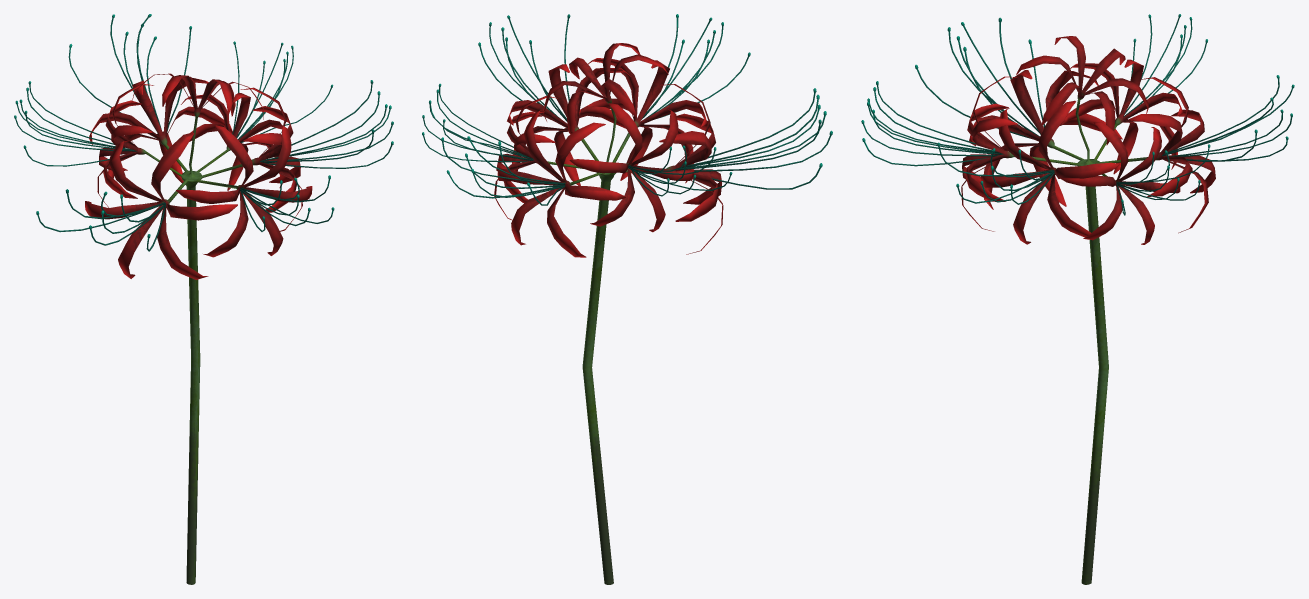
The model's file is SpiderLily.fbx.
The picture shows the model from 3 angles, left to right: view 1: azimuth 30°, elevation 25°; view 2: azimuth 150°, elevation 25°; view 3: azimuth 270°, elevation 25°; orthographic projection. The views are drawn at different scales.
Visible parts, largest first — view 1: Final Flower; view 2: Final Flower; view 3: Final Flower.
Part boxes in pixels (left/top/right/bottom): Final Flower: left=14, top=14, right=393, bottom=584; Final Flower: left=422, top=14, right=832, bottom=584; Final Flower: left=861, top=14, right=1294, bottom=584.
Bounding box in the file's own units: 785 × 1119 × 821.
